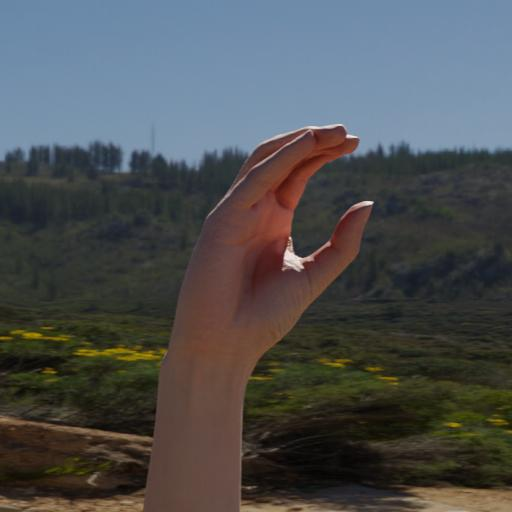C: (169, 122, 380, 364)
